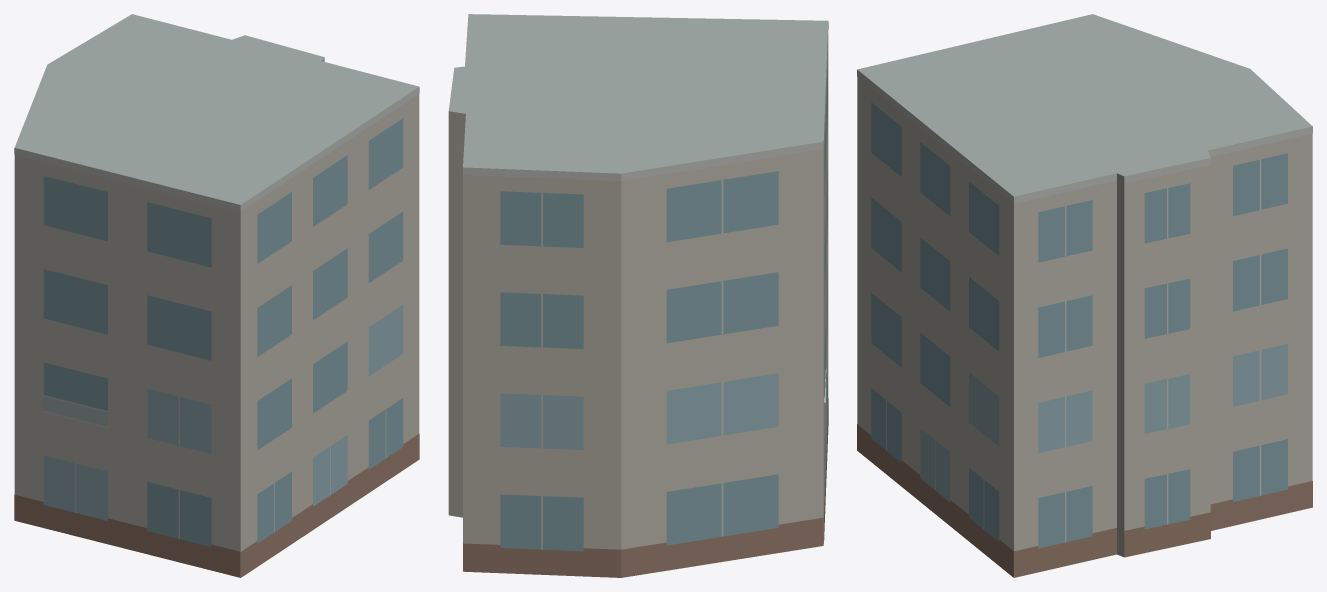
The model's file is survey-upis-32626618.glb.
The picture shows the model from 3 angles, left to right: view 1: azimuth 30°, elevation 25°; view 2: azimuth 150°, elevation 25°; view 3: azimuth 270°, elevation 25°; orthographic projection. The views are drawn at different scales.
Visible parts, largest first — view 1: survey-upis-32626618.tmp; view 2: survey-upis-32626618.tmp; view 3: survey-upis-32626618.tmp.
Boxes of the visible parts, x1,y1,x2,y2 form: survey-upis-32626618.tmp: [14, 14, 419, 577]; survey-upis-32626618.tmp: [448, 14, 828, 577]; survey-upis-32626618.tmp: [857, 14, 1312, 577].
Bounding box in the file's own units: 13.58 × 13.2 × 14.31.
